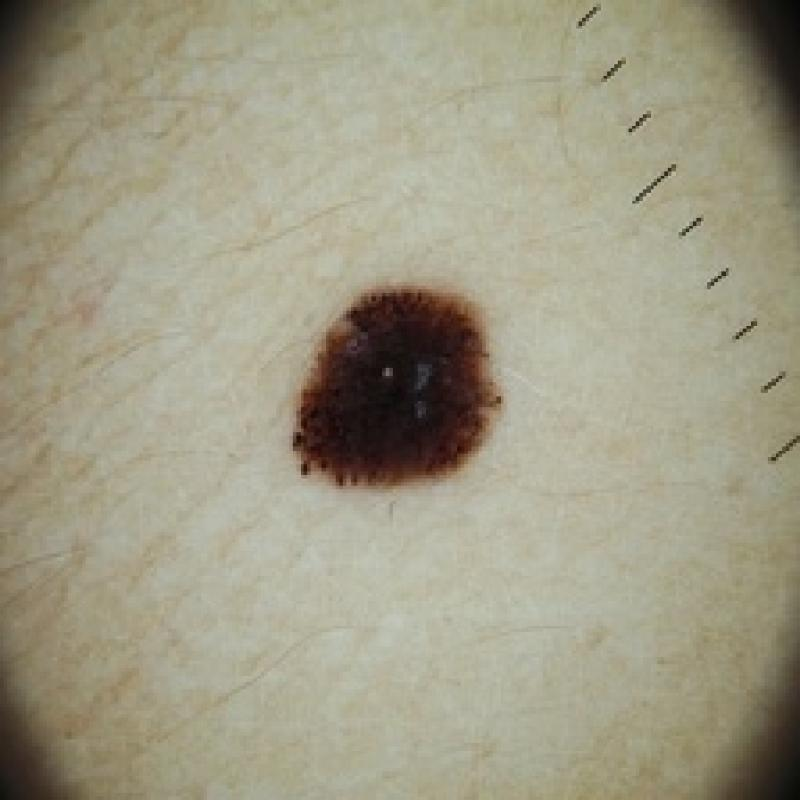malignant: (248, 263, 544, 552)
